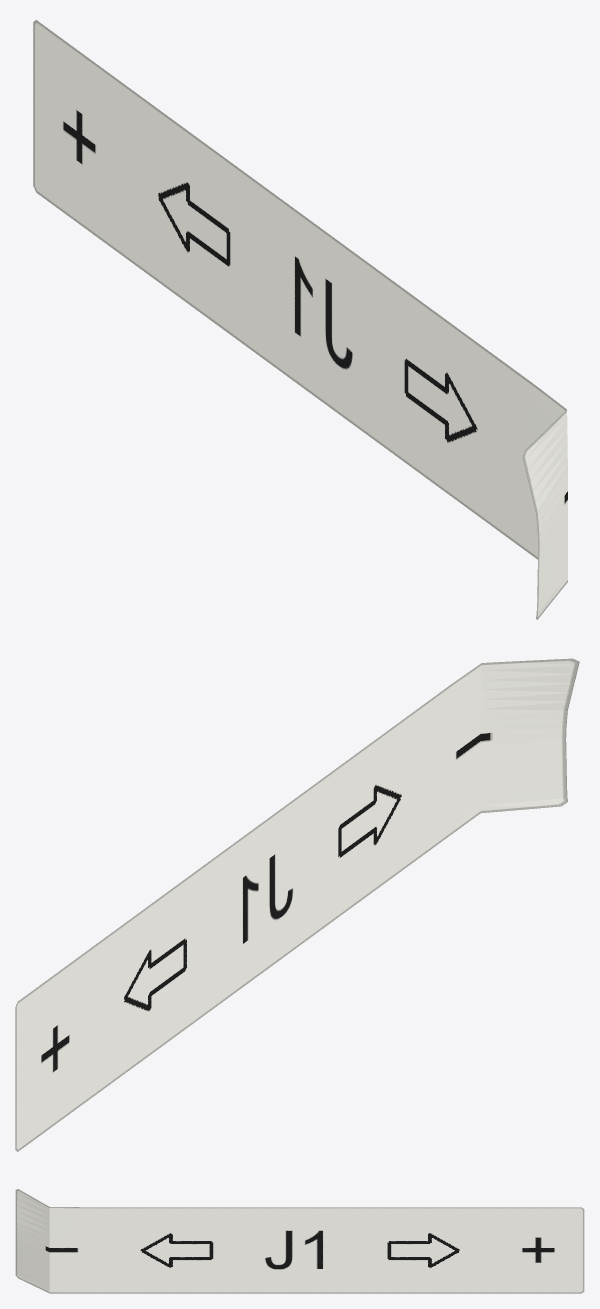
File: J1_sticker.glb
3 views of the same model, one above another, from view 1: azimuth 30°, elevation 25°; view 2: azimuth 150°, elevation 25°; view 3: azimuth 270°, elevation 25° (orthographic). The views are drawn at different scales.
Size of the model in its own units: 0.00602 by 0.012 by 0.07.
1 material, 1 textured.
